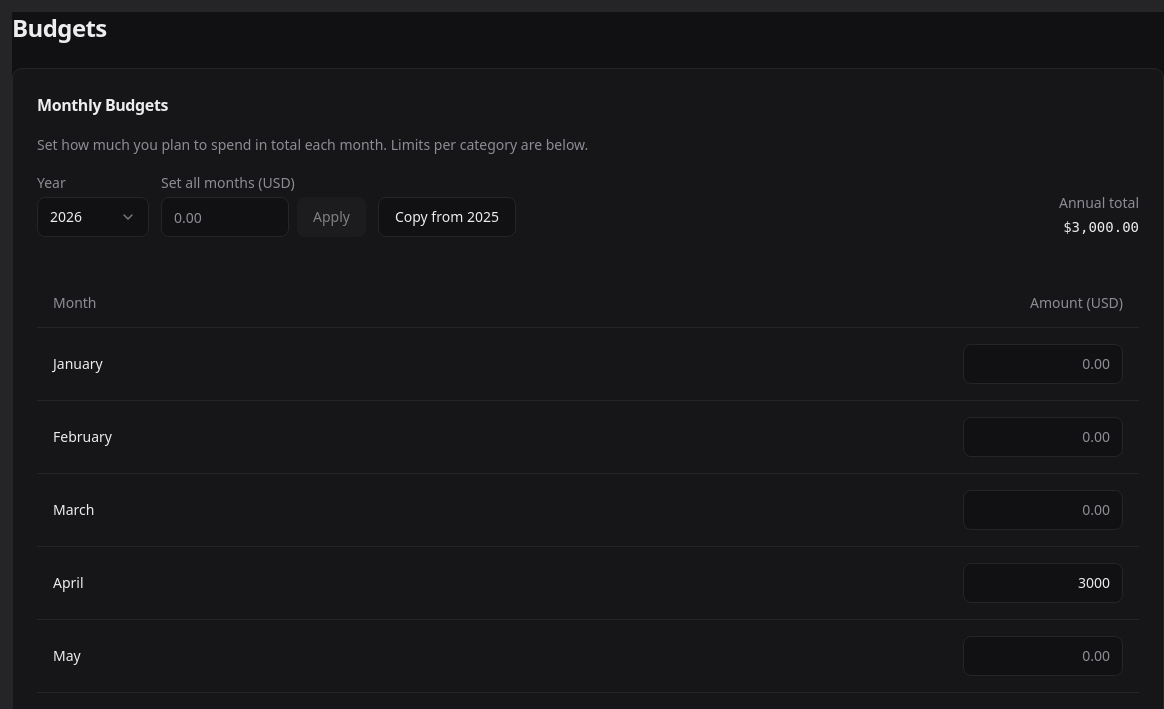
Budgets page › Monthly Budgets panel — as admin › Undo restores pre-bulk amounts
The width and height of the screenshot is (1164, 709).
Expected: the number field named "Budget for April 2026" holds "3000", [963,562,1123,602]
Expected: the number field named "Budget for May 2026" is empty, [963,636,1123,676]
Type "1000" into the number field named "Apply amount to all months of 2026" at (225, 217), box [161,197,289,237]
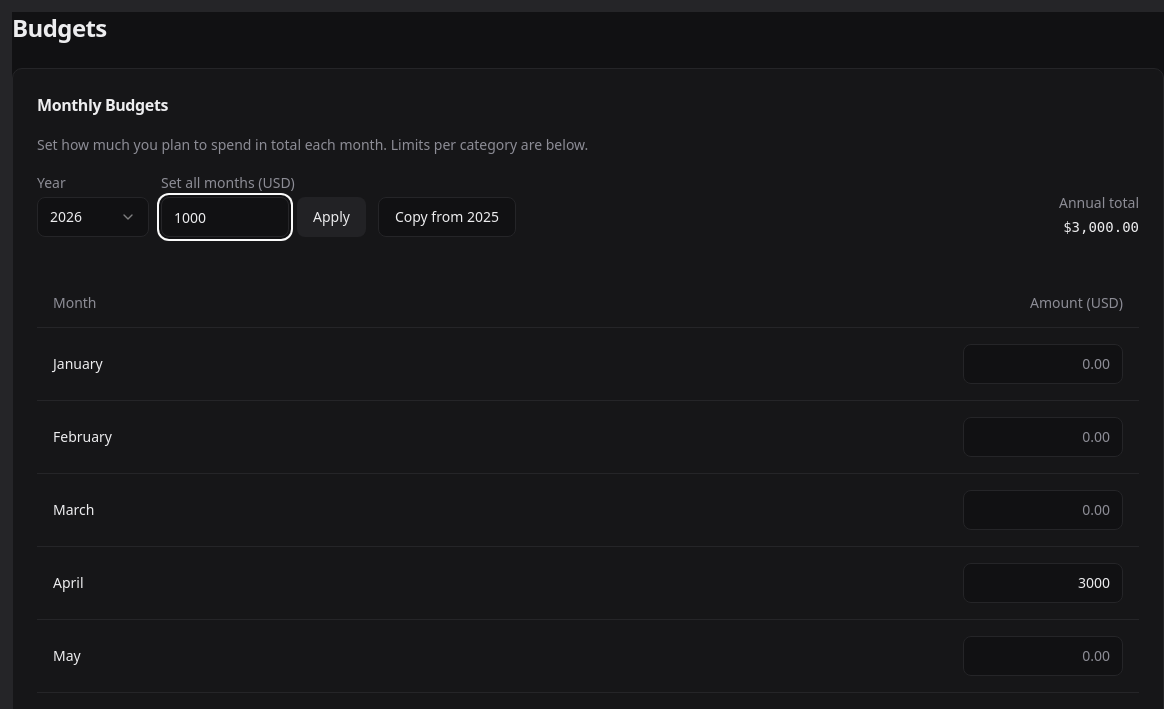
Click the button "Apply" at (331, 217), box [297,197,366,237]
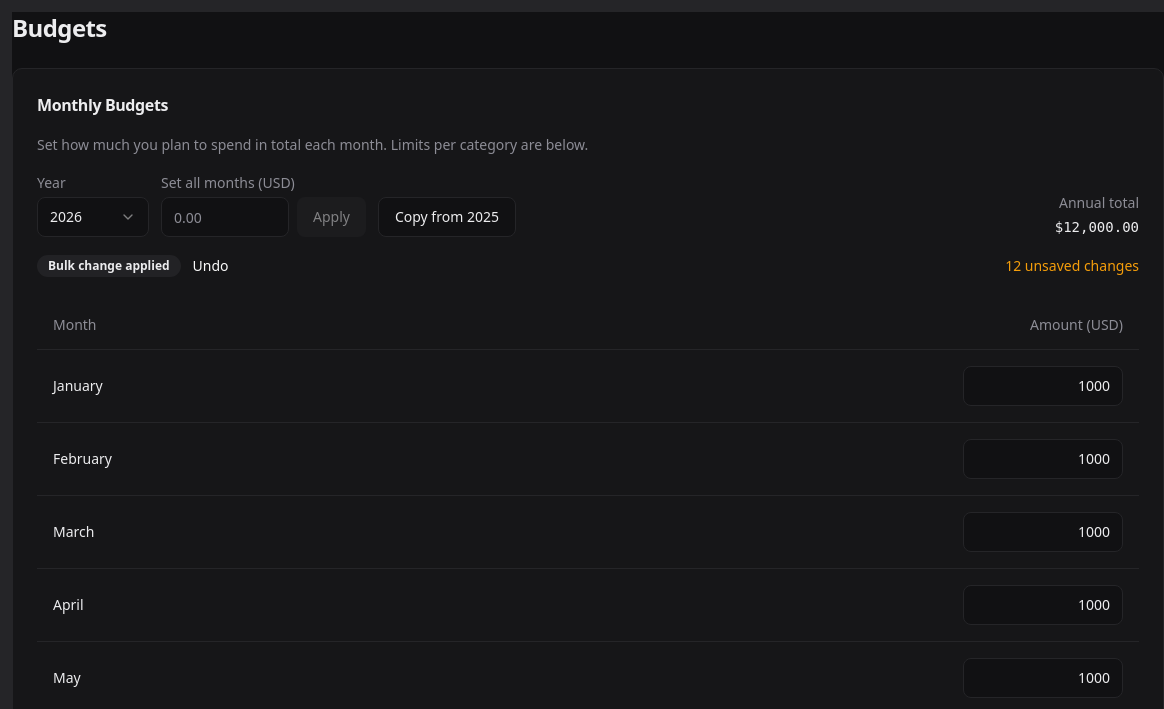
Expected: the number field named "Budget for April 2026" holds "1000", [963,584,1123,624]
Expected: the number field named "Budget for May 2026" holds "1000", [963,658,1123,698]
Click the button "Undo" at (211, 266), box [193,256,229,276]
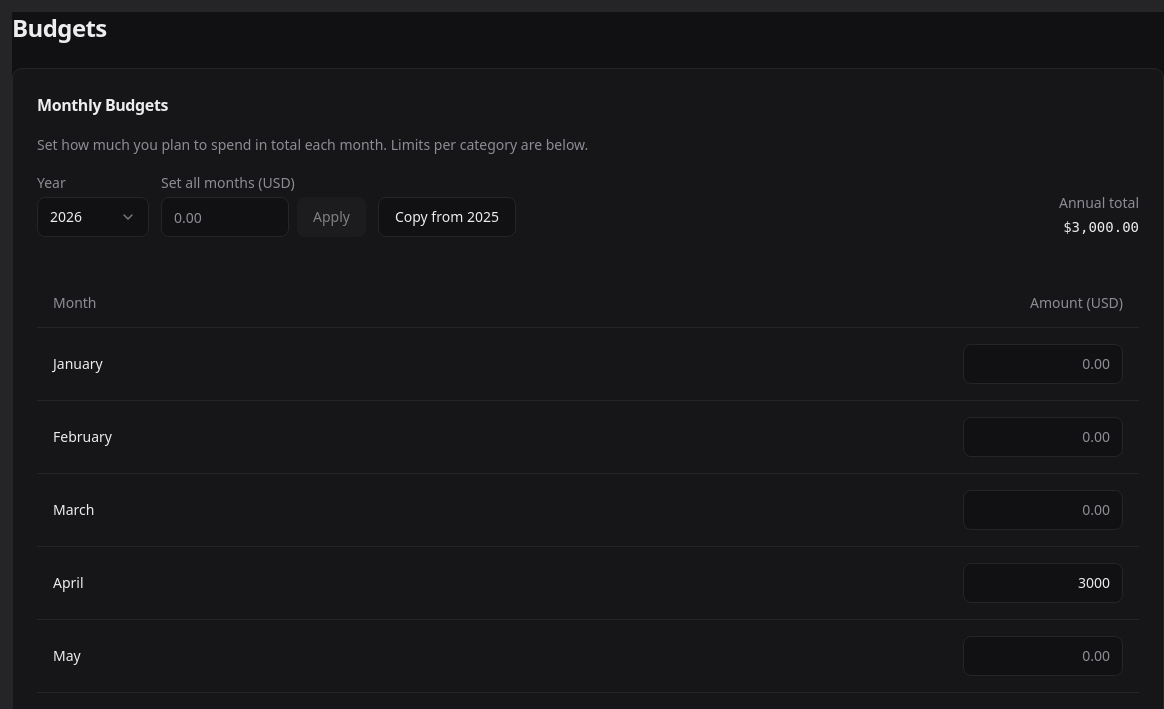
Expected: the number field named "Budget for April 2026" holds "3000", [963,562,1123,602]
Expected: the number field named "Budget for May 2026" is empty, [963,636,1123,676]
Expected: the button "Undo" is gone
